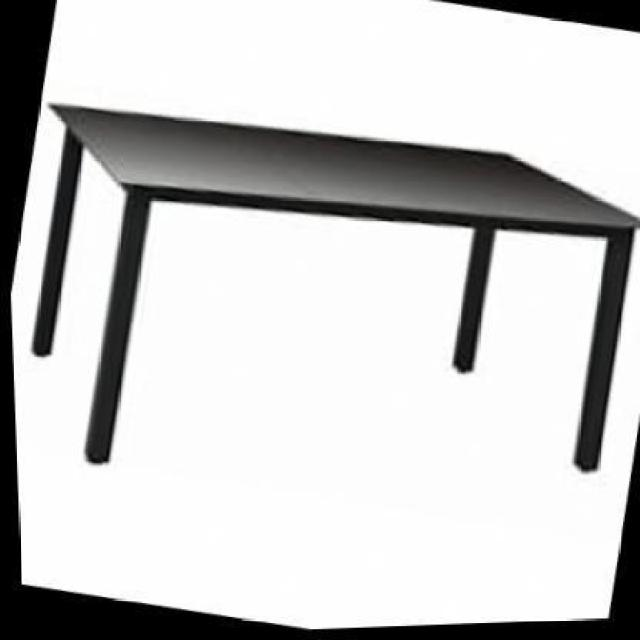tables: (29, 99, 638, 472)
